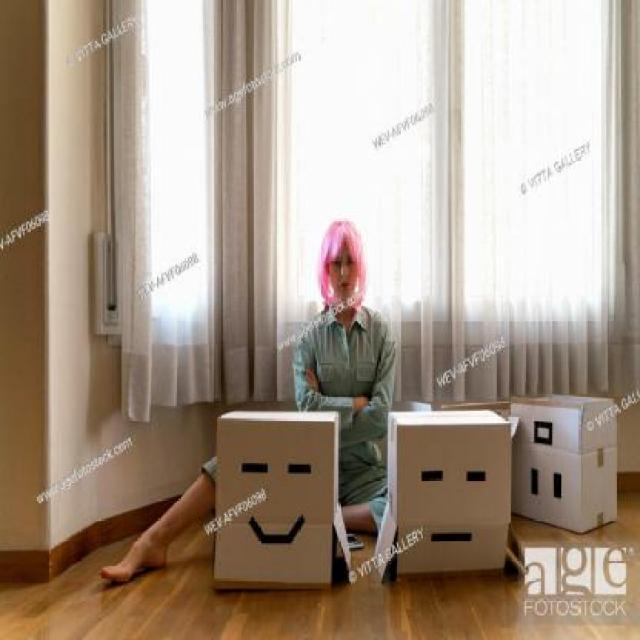box: (214, 407, 360, 590), (384, 410, 522, 578), (510, 395, 622, 535)
